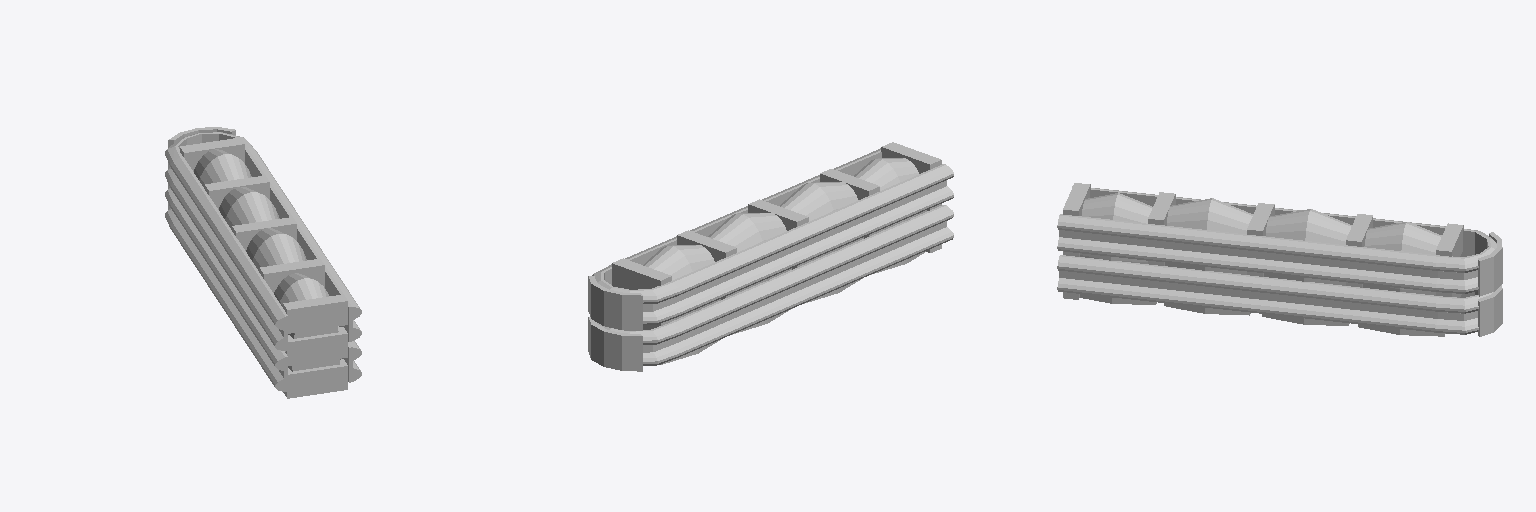
Rendered from Road12_2_13.obj.
3 renders of one model, left to right at view 1: azimuth 30°, elevation 25°; view 2: azimuth 150°, elevation 25°; view 3: azimuth 270°, elevation 25°, orthographic.
Parts seen in each view (by area): view 1: GSDAtten_Static(Clone); view 2: GSDAtten_Static(Clone); view 3: GSDAtten_Static(Clone).
Part boxes in pixels (x1,y1,x2,y2): GSDAtten_Static(Clone): (165,127,361,398); GSDAtten_Static(Clone): (588,142,953,371); GSDAtten_Static(Clone): (1057,183,1502,336).
Bounding box in the file's own units: 1.46 × 0.8398 × 3.36.